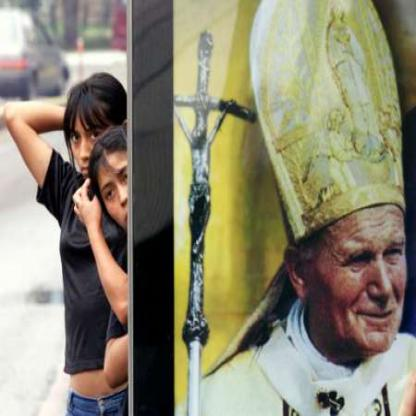face: (66, 80, 120, 190), (100, 131, 152, 241)
